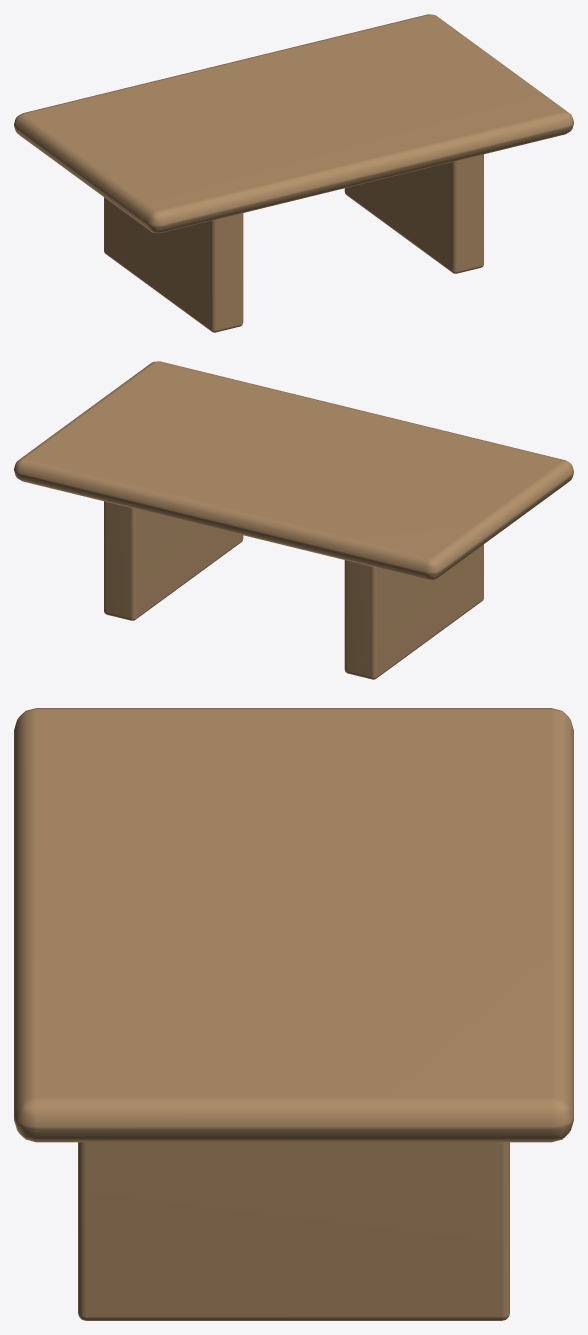
File: oak-coffee-table.glb
3 views of the same model, one above another, from view 1: azimuth 30°, elevation 25°; view 2: azimuth 150°, elevation 25°; view 3: azimuth 270°, elevation 25° (orthographic). The views are drawn at different scales.
Parts seen in each view (by area): view 1: Mood oak board; view 2: Mood oak board; view 3: Mood oak board.
Boxes of the visible parts, x1,y1,x2,y2 form: Mood oak board: [14, 14, 573, 332]; Mood oak board: [14, 361, 573, 679]; Mood oak board: [14, 708, 573, 1320].
Bounding box in the file's own units: 1.2 × 0.4 × 0.7.
